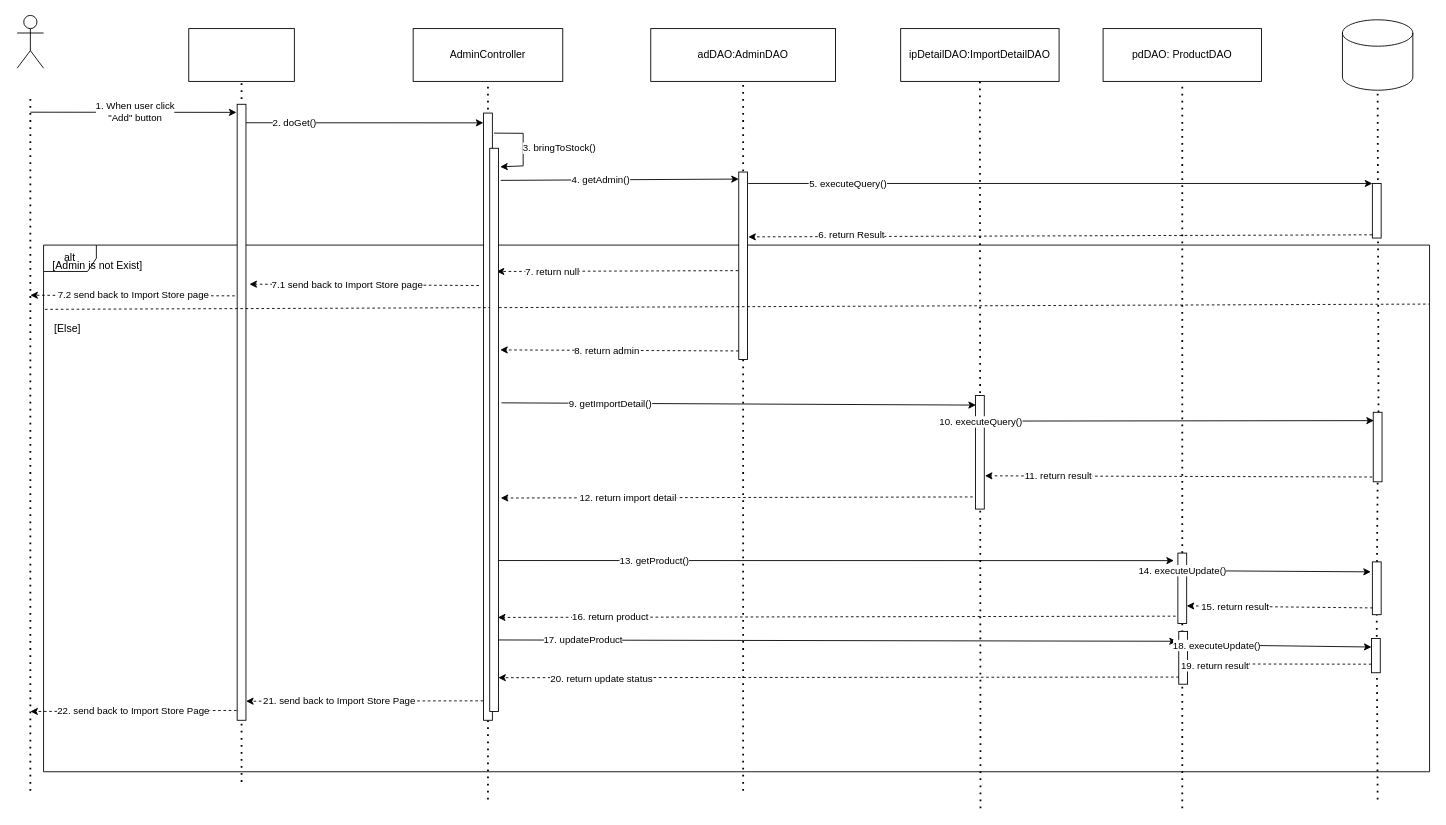
Image size: 1446x825. Some labels were removed from this diagram. Here are the shapes that lost their labels. From the top down, the box of each, then its label:
(16, 15, 44, 68): Admin
(188, 28, 294, 81): Import Store Page
(1342, 19, 1413, 90): DB
